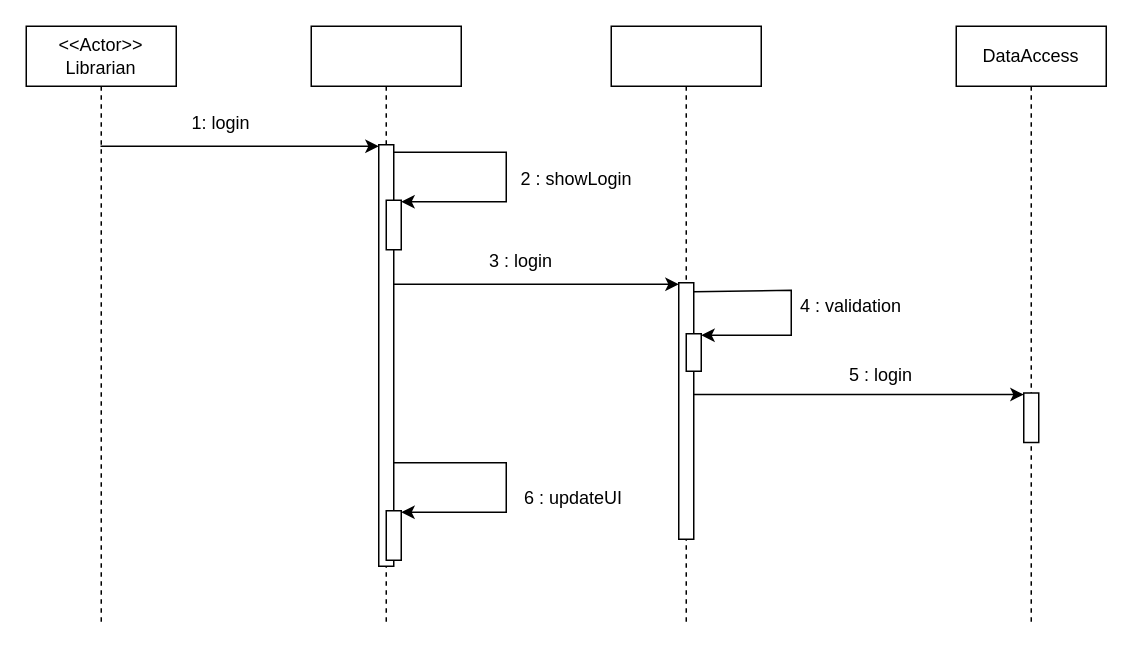
The diagram is 1133 pixels wide and 653 high, and some of its shapes have lost their labels. Here are the shapes that lost their labels. From the top down, the box of each, then its label:
(310, 25, 461, 626): UI
(610, 25, 761, 626): SystemController
